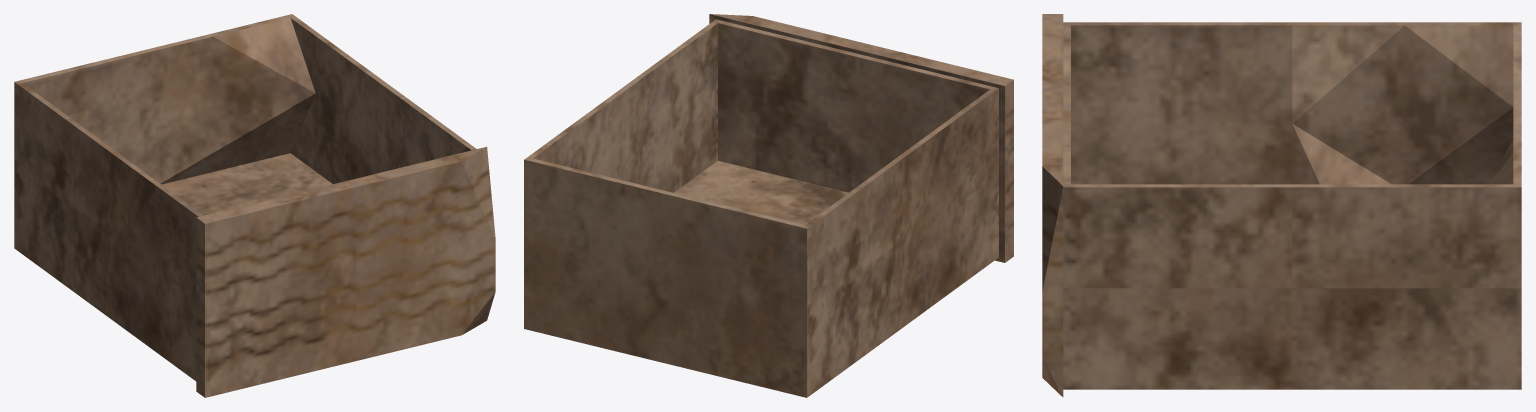
File: bone drawer 2 .fbx
The picture shows the model from 3 angles, left to right: view 1: azimuth 30°, elevation 25°; view 2: azimuth 150°, elevation 25°; view 3: azimuth 270°, elevation 25°; orthographic projection. The views are drawn at different scales.
Parts seen in each view (by area): view 1: Cube.006; view 2: Cube.006; view 3: Cube.006.
Boxes of the visible parts, x1,y1,x2,y2 form: Cube.006: [14, 14, 495, 397]; Cube.006: [524, 14, 1013, 397]; Cube.006: [1042, 14, 1521, 397].
Bounding box in the file's own units: 132 × 75.48 × 155.
Materials: 1 (1 with a texture image).
